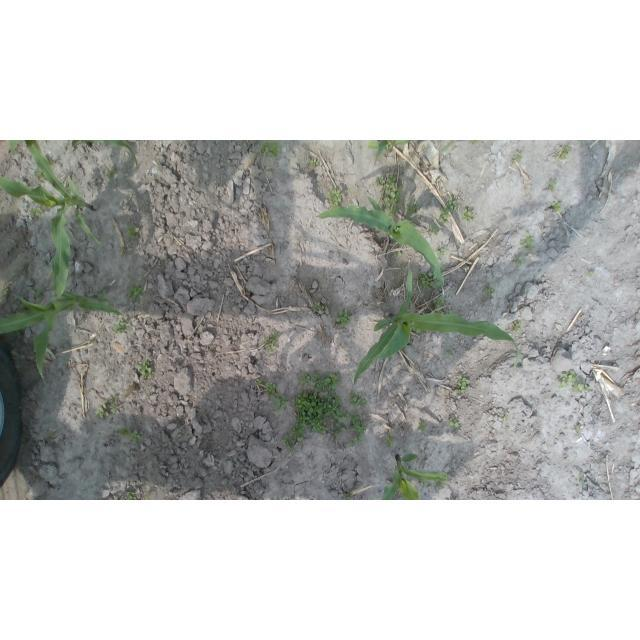Maize: (351, 269, 521, 387), (1, 141, 102, 303), (315, 198, 448, 305), (1, 288, 124, 385), (7, 143, 141, 170), (381, 452, 450, 499)
Weeds: (262, 373, 366, 451), (429, 192, 474, 239), (373, 176, 419, 221), (556, 372, 585, 394), (420, 268, 440, 293), (95, 399, 118, 417), (325, 186, 340, 207), (123, 428, 141, 445), (261, 142, 282, 156), (124, 223, 140, 241), (128, 285, 144, 303), (335, 309, 349, 329), (267, 332, 280, 353), (557, 144, 573, 160), (113, 318, 127, 336), (137, 361, 151, 378), (547, 201, 563, 215), (26, 208, 42, 221), (385, 432, 398, 446), (437, 245, 448, 261), (312, 300, 325, 313), (432, 296, 444, 310), (523, 237, 534, 249), (460, 378, 469, 391), (514, 256, 524, 267), (547, 181, 555, 194), (487, 282, 494, 296), (420, 423, 429, 433), (514, 152, 523, 162), (449, 421, 460, 429), (310, 158, 319, 166)
